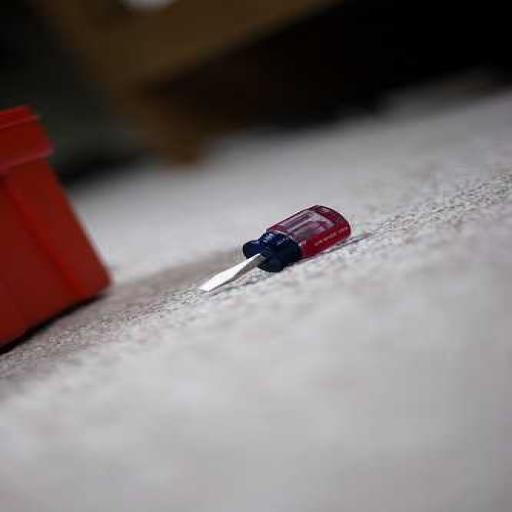screwdriver: (197, 204, 350, 295)
